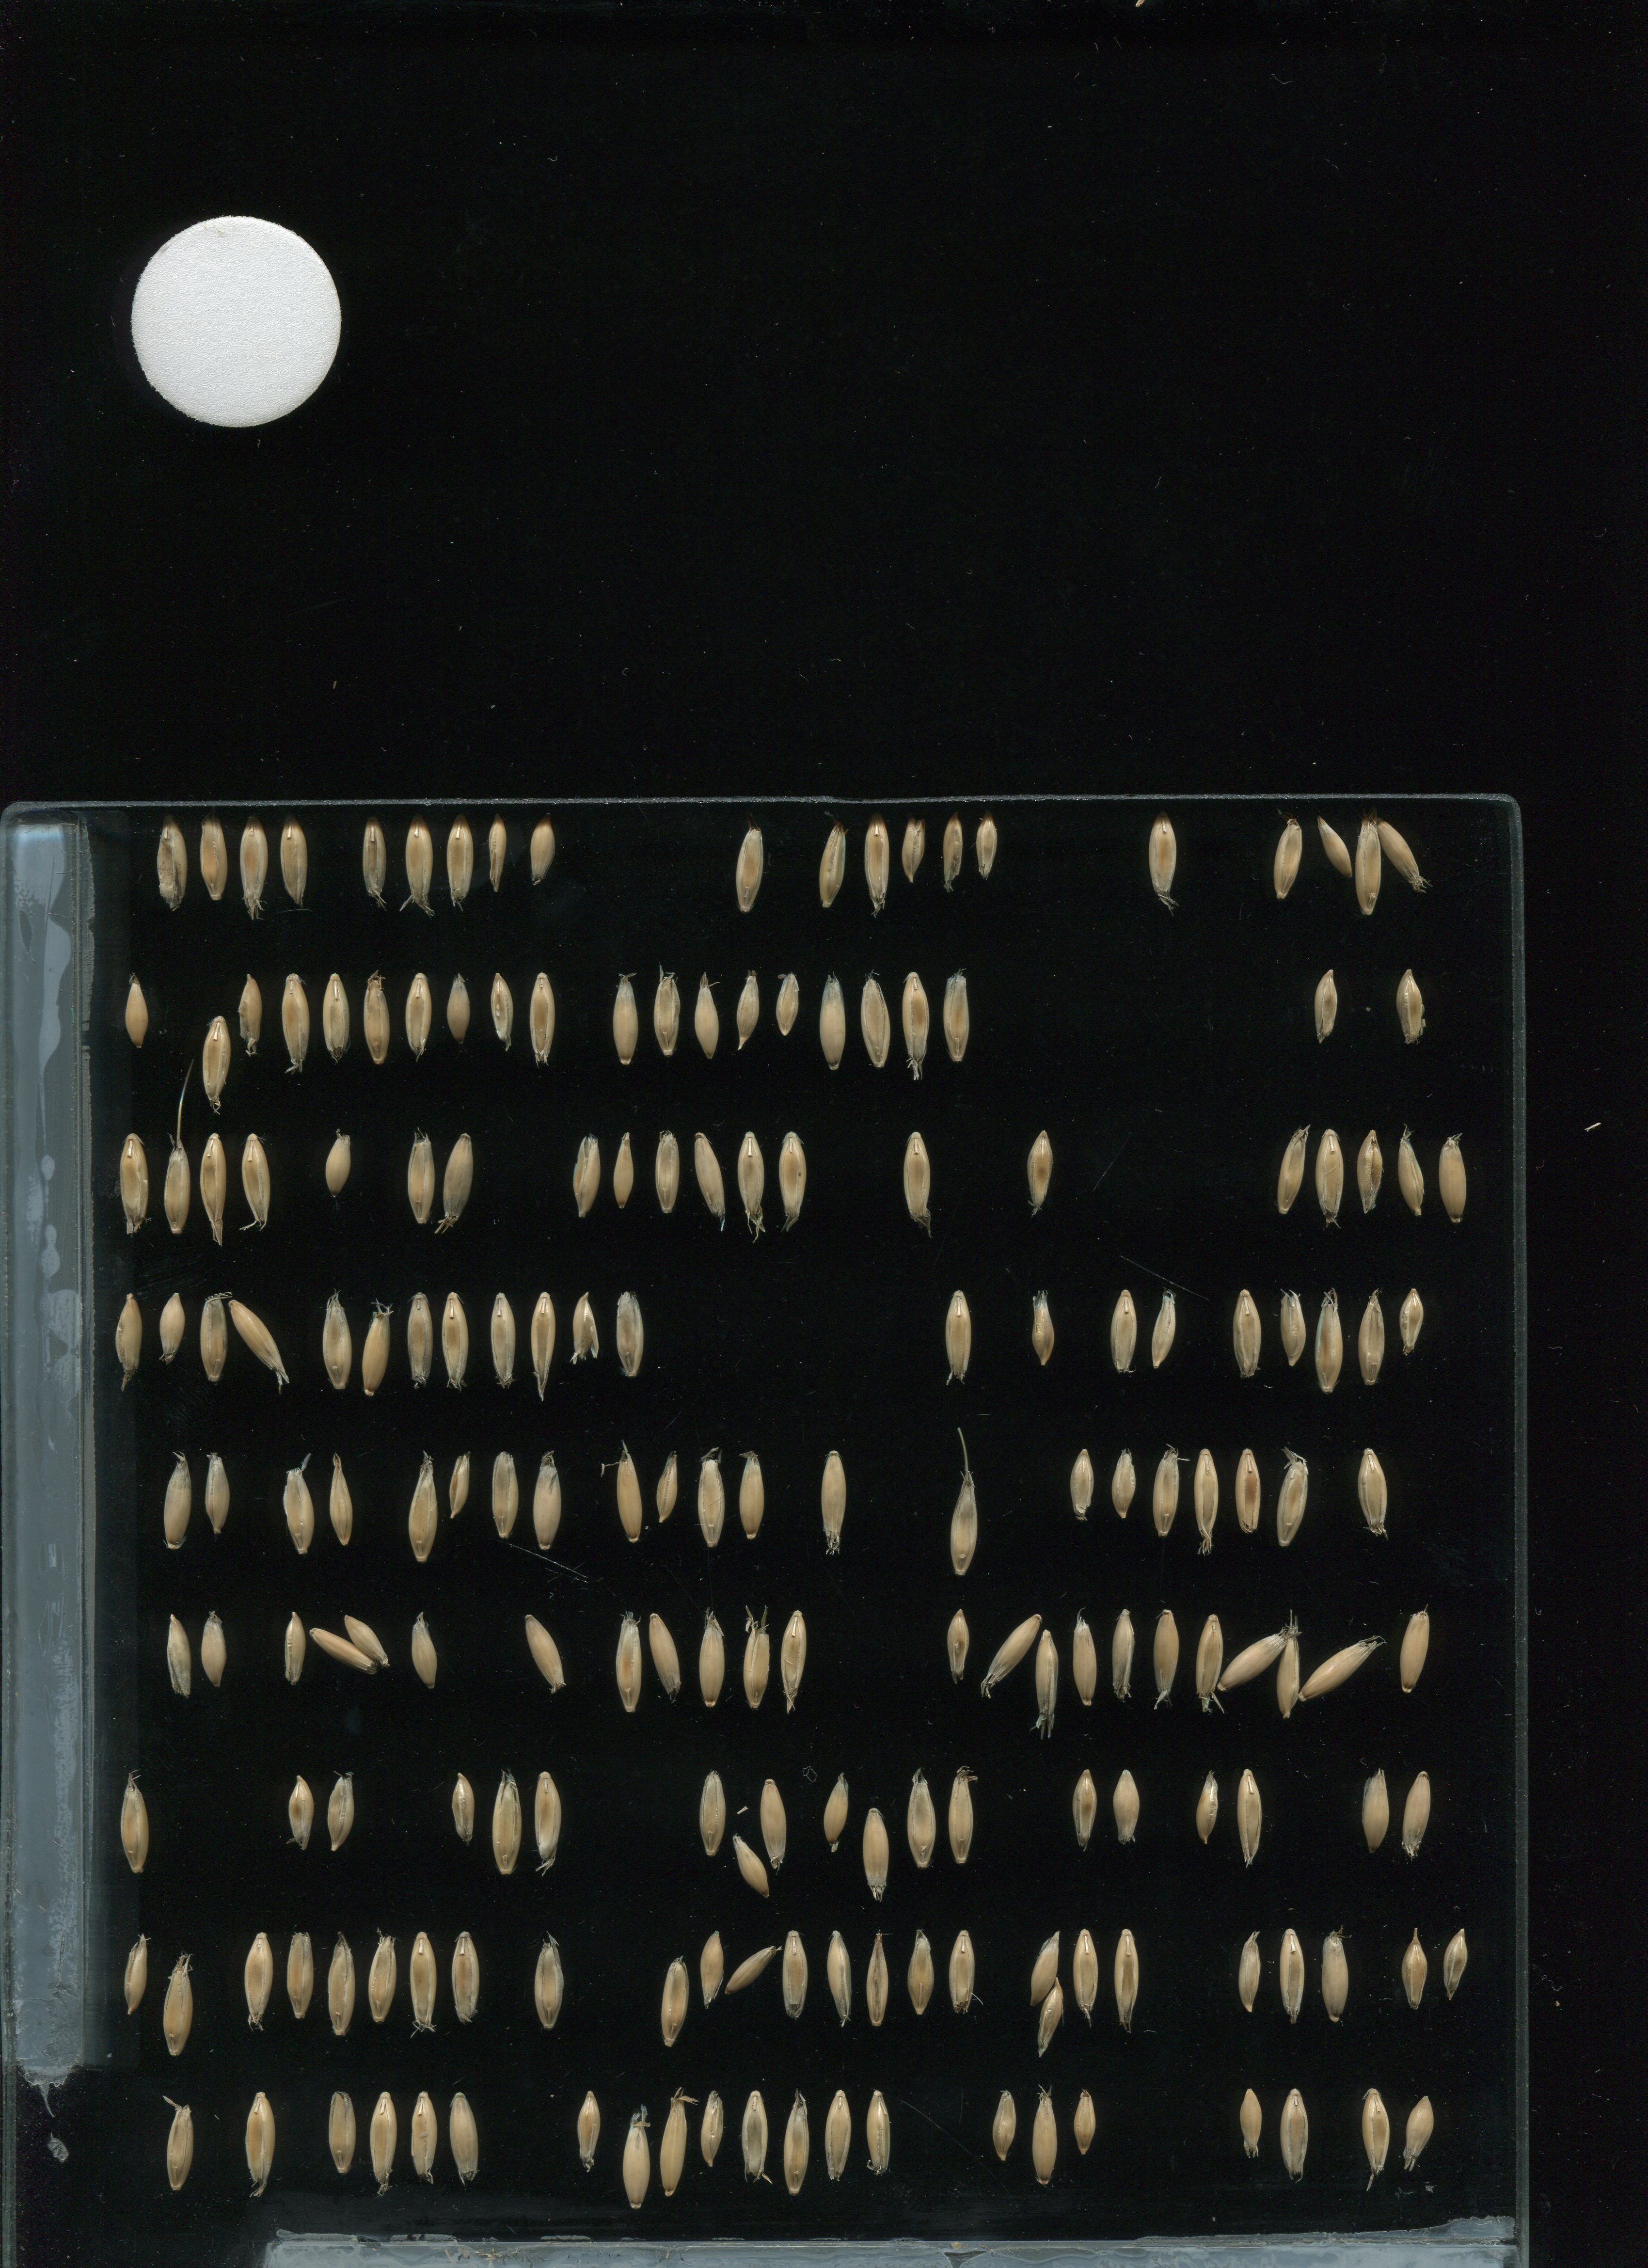WholeGrain: (224, 1298, 292, 1386), (1296, 1636, 1387, 1701), (979, 1608, 1046, 1692), (1213, 1629, 1291, 1694), (1368, 808, 1426, 891), (195, 1002, 236, 1116), (813, 1444, 854, 1558), (1019, 1116, 1060, 1229), (400, 806, 438, 921), (438, 806, 477, 921), (474, 805, 512, 919), (731, 808, 769, 923), (854, 806, 893, 921), (232, 961, 271, 1076), (606, 960, 644, 1074), (648, 960, 687, 1074), (683, 960, 722, 1074), (813, 965, 852, 1079), (852, 963, 891, 1078), (114, 1125, 153, 1240), (157, 1127, 195, 1241), (195, 1129, 234, 1243), (236, 1129, 275, 1243), (401, 1120, 440, 1234), (438, 1123, 477, 1238), (690, 1122, 729, 1236), (732, 1120, 771, 1234), (776, 1122, 815, 1236), (898, 1123, 937, 1238), (1271, 1120, 1310, 1234), (1312, 1123, 1350, 1238), (1350, 1120, 1389, 1234), (1391, 1115, 1430, 1229), (1435, 1120, 1474, 1234), (1354, 1275, 1393, 1389), (1227, 1275, 1266, 1389), (525, 1284, 563, 1398), (486, 1282, 525, 1396), (438, 1284, 477, 1398), (400, 1280, 438, 1395), (319, 1284, 357, 1398), (192, 1277, 231, 1391), (107, 1282, 146, 1396), (155, 1442, 194, 1557), (194, 1439, 232, 1553), (280, 1446, 319, 1560), (322, 1447, 361, 1562), (403, 1451, 442, 1565), (607, 1442, 646, 1557), (692, 1442, 731, 1557), (732, 1442, 771, 1557), (1148, 1435, 1187, 1550), (1227, 1437, 1266, 1551), (1271, 1442, 1310, 1557), (1354, 1435, 1393, 1550), (1190, 1599, 1229, 1713), (1104, 1599, 1143, 1713), (1032, 1624, 1070, 1738), (775, 1604, 813, 1719), (736, 1602, 775, 1717), (694, 1602, 732, 1717), (646, 1601, 685, 1715), (611, 1602, 650, 1717), (113, 1768, 151, 1882), (271, 1590, 310, 1705), (1398, 1757, 1437, 1872), (1357, 1752, 1396, 1867), (1231, 1757, 1269, 1872), (905, 1763, 944, 1877), (857, 1798, 896, 1912), (694, 1757, 732, 1872), (486, 1766, 525, 1881), (158, 1949, 197, 2064), (238, 1925, 276, 2039), (282, 1919, 320, 2034), (364, 1925, 403, 2039), (405, 1923, 444, 2037), (445, 1921, 484, 2036), (530, 1921, 569, 2036), (655, 1937, 694, 2051), (778, 1918, 817, 2032), (820, 1916, 859, 2030), (857, 1921, 896, 2036), (901, 1918, 940, 2032), (1273, 1918, 1312, 2032), (1312, 1919, 1350, 2034), (239, 2085, 278, 2199), (366, 2083, 405, 2198), (405, 2081, 444, 2196), (616, 2097, 655, 2212), (655, 2085, 694, 2199), (736, 2080, 775, 2194), (780, 2085, 819, 2199), (820, 2078, 859, 2192), (1357, 2076, 1396, 2191), (1400, 2074, 1438, 2189), (521, 1611, 570, 1701), (153, 808, 192, 921), (190, 806, 229, 919), (232, 808, 271, 921), (276, 810, 315, 923), (356, 806, 394, 919), (812, 808, 850, 921), (1143, 805, 1181, 917), (275, 965, 313, 1078), (317, 961, 356, 1074), (356, 961, 394, 1074), (394, 961, 433, 1074), (523, 961, 562, 1074), (891, 965, 930, 1078), (937, 961, 975, 1074), (1310, 1280, 1349, 1393), (938, 1278, 977, 1391), (357, 1289, 396, 1402), (151, 1277, 190, 1389), (486, 1440, 525, 1553), (528, 1446, 567, 1558), (944, 1467, 982, 1579), (1188, 1439, 1227, 1551), (1396, 1590, 1435, 1703), (1146, 1599, 1185, 1712), (1065, 1601, 1104, 1713), (942, 1761, 981, 1874), (528, 1764, 567, 1877), (114, 1925, 153, 2037), (324, 1928, 363, 2041), (942, 1918, 981, 2030), (1107, 1919, 1146, 2032), (1069, 1918, 1107, 2030), (158, 2092, 197, 2205), (324, 2078, 363, 2191), (445, 2081, 484, 2194), (1025, 2078, 1063, 2191), (1275, 2078, 1313, 2191), (755, 1775, 796, 1872), (1264, 812, 1305, 905), (521, 803, 562, 895), (305, 1627, 379, 1676), (731, 1830, 778, 1902), (1352, 812, 1384, 919), (338, 1608, 393, 1668), (484, 965, 519, 1053), (651, 1444, 687, 1532), (405, 1606, 440, 1694), (199, 1606, 234, 1694), (160, 1608, 195, 1696), (1396, 1925, 1431, 2013), (724, 1946, 784, 1997), (896, 808, 931, 895), (970, 805, 1005, 891), (731, 968, 766, 1055), (121, 968, 157, 1055), (570, 1134, 606, 1220), (650, 1129, 685, 1215), (1393, 963, 1428, 1049), (1394, 1278, 1430, 1365), (1107, 1287, 1143, 1373), (1025, 1287, 1060, 1373), (442, 1442, 477, 1528), (1106, 1437, 1141, 1523), (319, 1768, 354, 1854), (445, 1764, 481, 1851), (1192, 1761, 1227, 1847), (692, 1926, 727, 2013), (1234, 1926, 1269, 2013), (1437, 1923, 1472, 2009), (322, 1120, 356, 1208), (607, 1129, 641, 1217), (613, 1291, 646, 1379), (1063, 1437, 1097, 1525), (1232, 2078, 1266, 2166), (933, 806, 967, 893), (773, 960, 806, 1046), (442, 965, 475, 1051), (1310, 960, 1343, 1046), (1278, 1284, 1312, 1370), (1148, 1287, 1181, 1373), (569, 1287, 602, 1373), (940, 1602, 974, 1689), (285, 1766, 319, 1852), (820, 1768, 854, 1854), (1065, 1763, 1099, 1849), (1109, 1764, 1143, 1851), (1070, 2080, 1104, 2166), (984, 2083, 1018, 2169), (859, 2088, 893, 2175), (572, 2088, 606, 2175), (697, 2085, 731, 2171), (1273, 1616, 1301, 1719), (1032, 1977, 1067, 2058), (1026, 1926, 1062, 2006), (1315, 814, 1354, 879)
